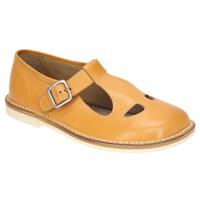shoe: (5, 50, 196, 150)
